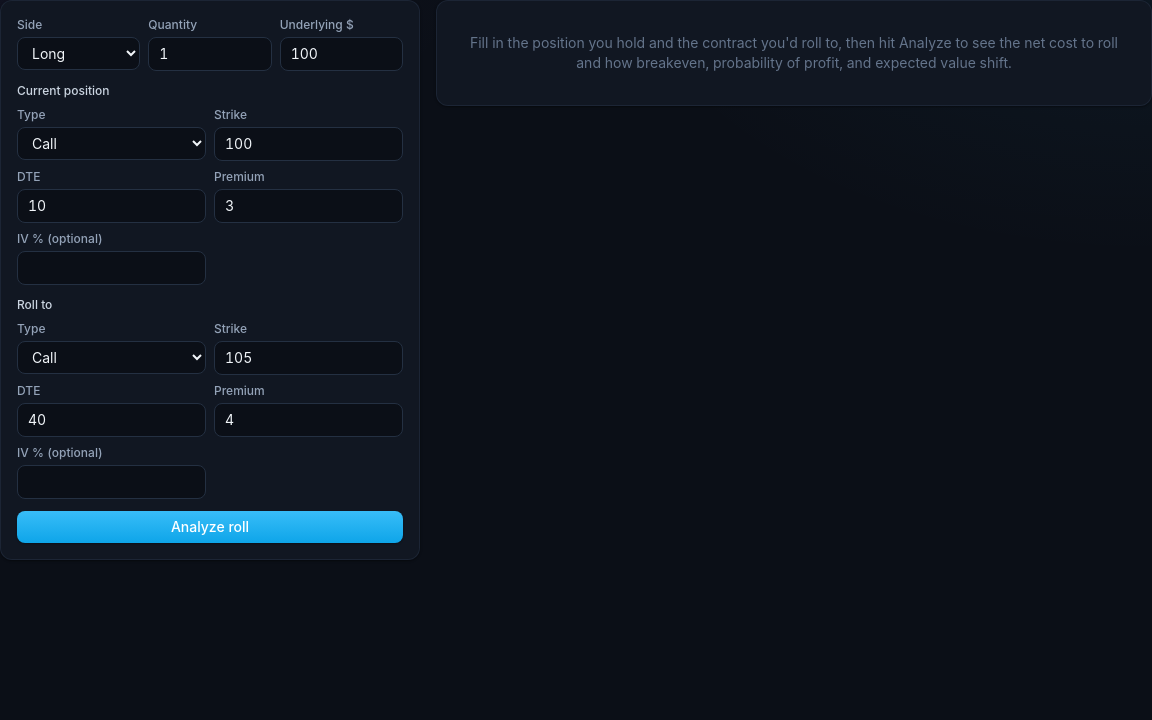
Test: RollAnalyzer › shows an error state with a retry that re-fetches
Click the button "Analyze roll" at coordinates (210, 527), box [17,511,403,543]
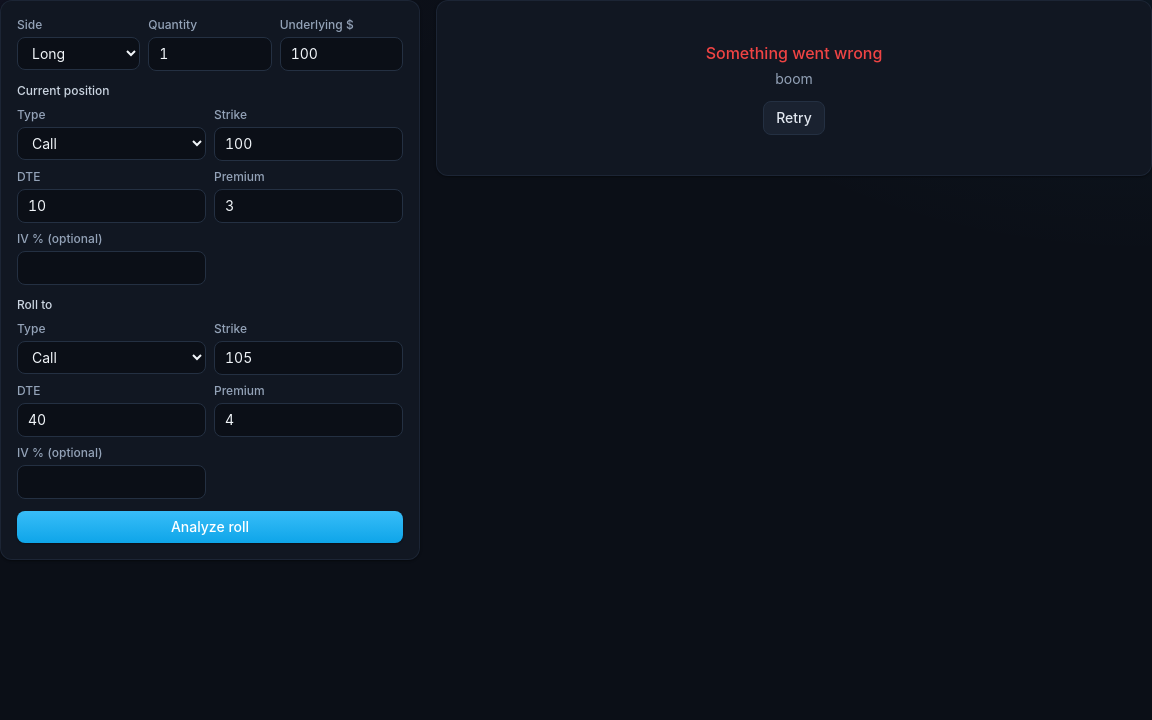
Expected: the text "boom" is shown, [775,70,813,87]
Click the button "Retry" at coordinates (794, 118), box [763,101,825,135]
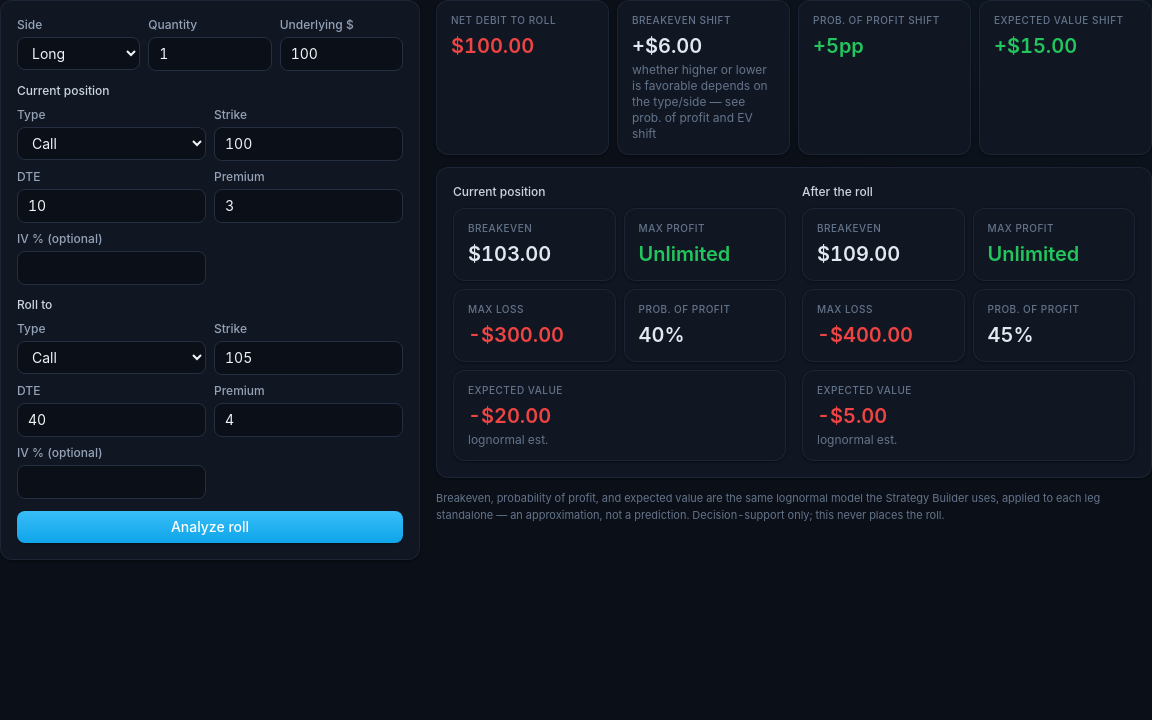
Expected: the text "Net debit to roll" is shown, [451,14,556,26]
